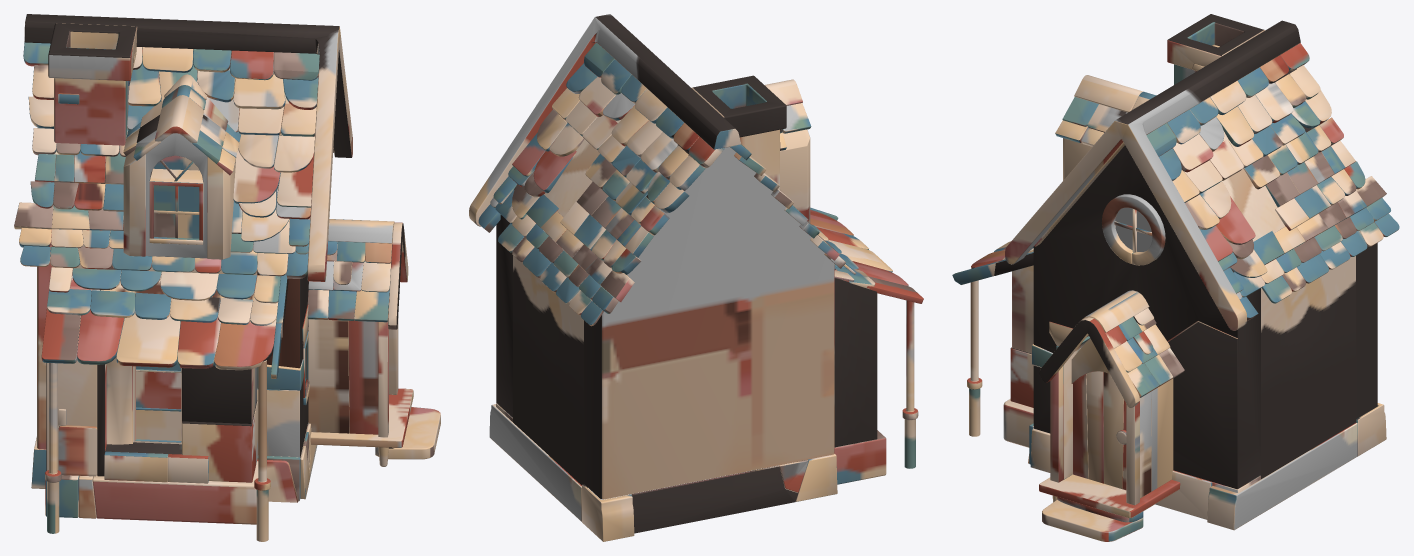
File: case_set1_casa4_LODs.fbx
3 renders of one model, left to right at view 1: azimuth 30°, elevation 25°; view 2: azimuth 150°, elevation 25°; view 3: azimuth 270°, elevation 25°, orthographic. The views are drawn at different scales.
Visible parts, largest first — view 1: case_set1_casa4_LOD0; view 2: case_set1_casa4_LOD0; view 3: case_set1_casa4_LOD0.
Boxes of the visible parts, x1,y1,x2,y2 form: case_set1_casa4_LOD0: (14, 14, 440, 541); case_set1_casa4_LOD0: (469, 14, 923, 541); case_set1_casa4_LOD0: (952, 14, 1399, 541).
Size of what is drawn, in the model's own units: 2728 by 2632 by 2791.
